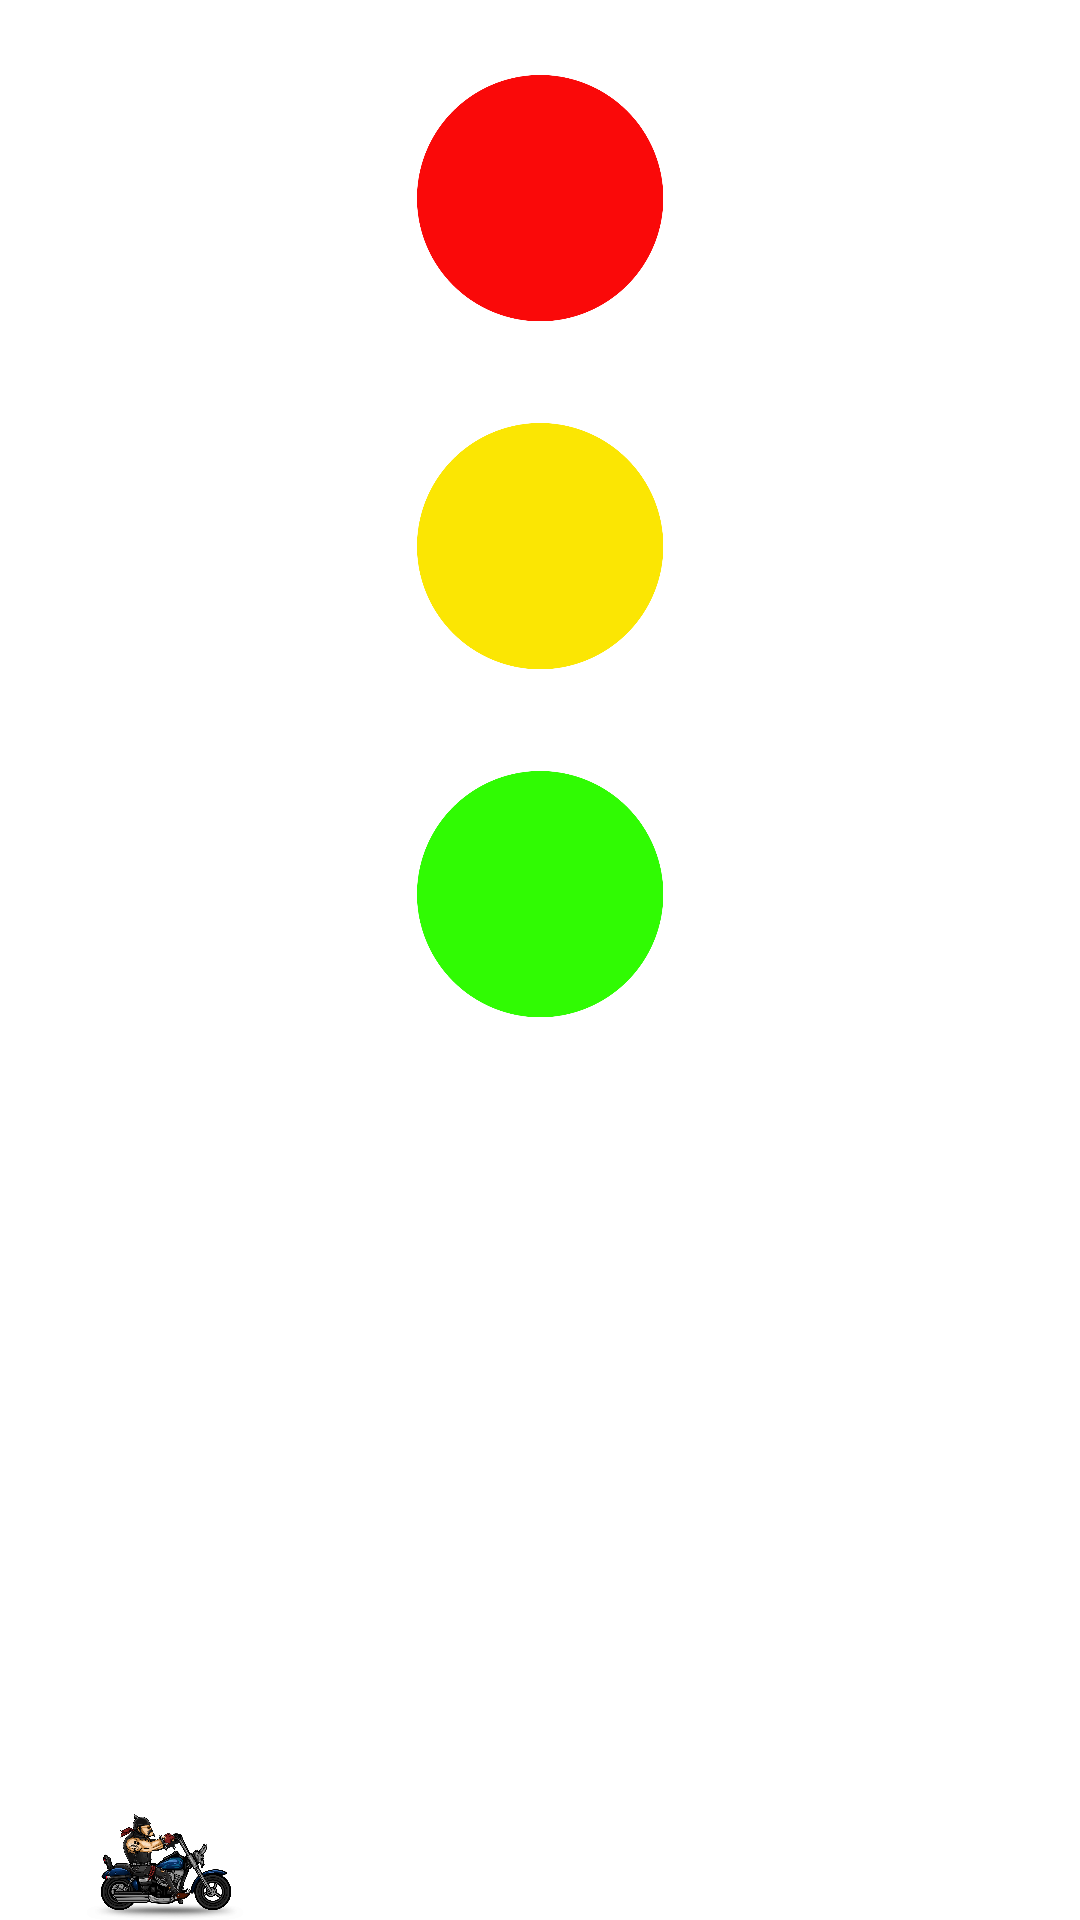

Icons on this 1080 x 1920 Android screen, each with its box as rect(x1, y1, x2, y2):
human moto: rect(101, 1814, 231, 1916)
